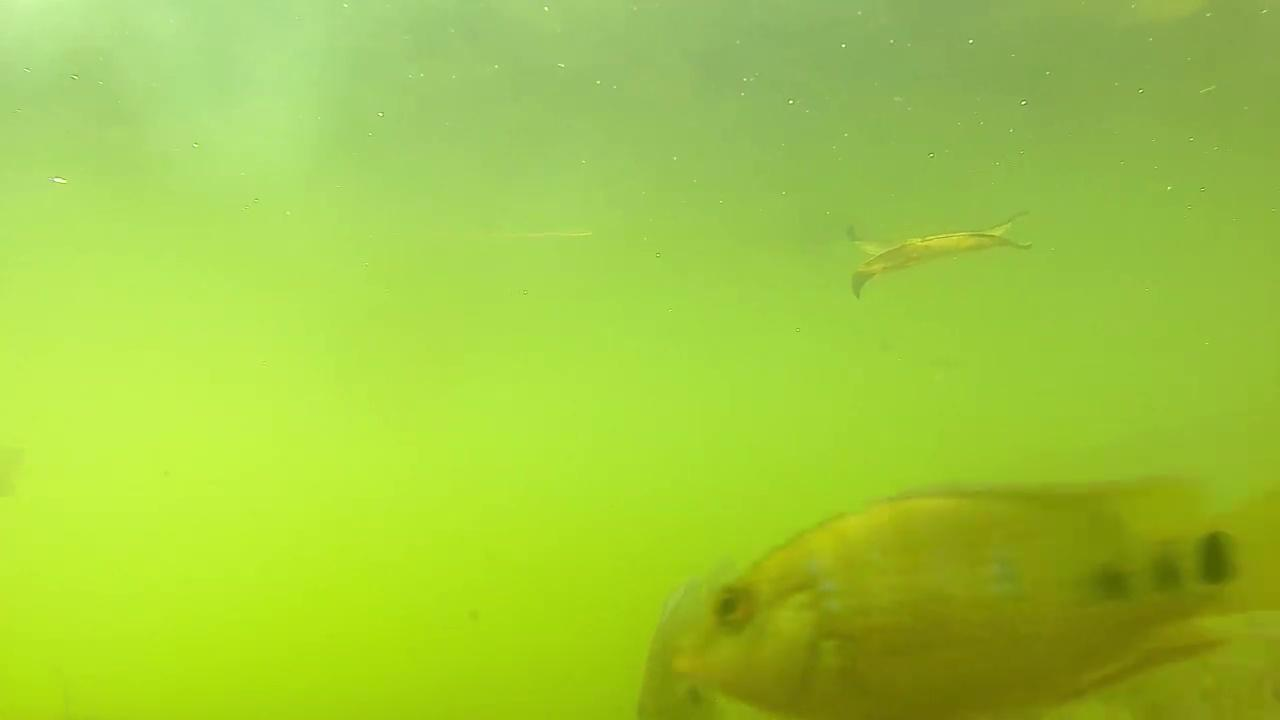Tilapia: (679, 470, 1280, 720)
